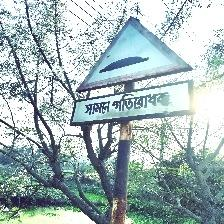Speed-breaker: (72, 16, 197, 125)
